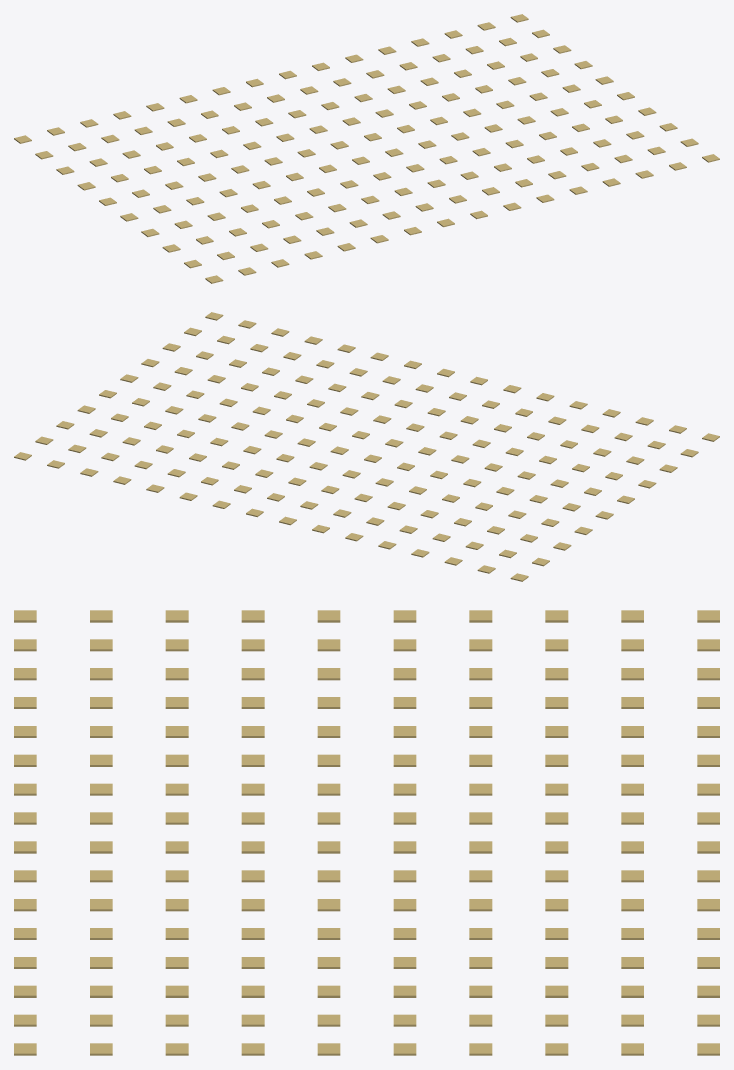
The model's file is 104_L104_U1_BGA_ContactFootprint.glb.
3 renders of one model, top to bottom at view 1: azimuth 30°, elevation 25°; view 2: azimuth 150°, elevation 25°; view 3: azimuth 270°, elevation 25°, orthographic. The views are drawn at different scales.
Visible parts, largest first — view 1: U1_BGA_ContactFootprint_gold_0; view 2: U1_BGA_ContactFootprint_gold_0; view 3: U1_BGA_ContactFootprint_gold_0.
Part boxes in pixels (bbox=[...]): U1_BGA_ContactFootprint_gold_0: bbox=[14, 14, 719, 283]; U1_BGA_ContactFootprint_gold_0: bbox=[14, 312, 719, 581]; U1_BGA_ContactFootprint_gold_0: bbox=[14, 610, 719, 1055].
Bounding box in the file's own units: 0.0184 × 4e-05 × 0.0124.
